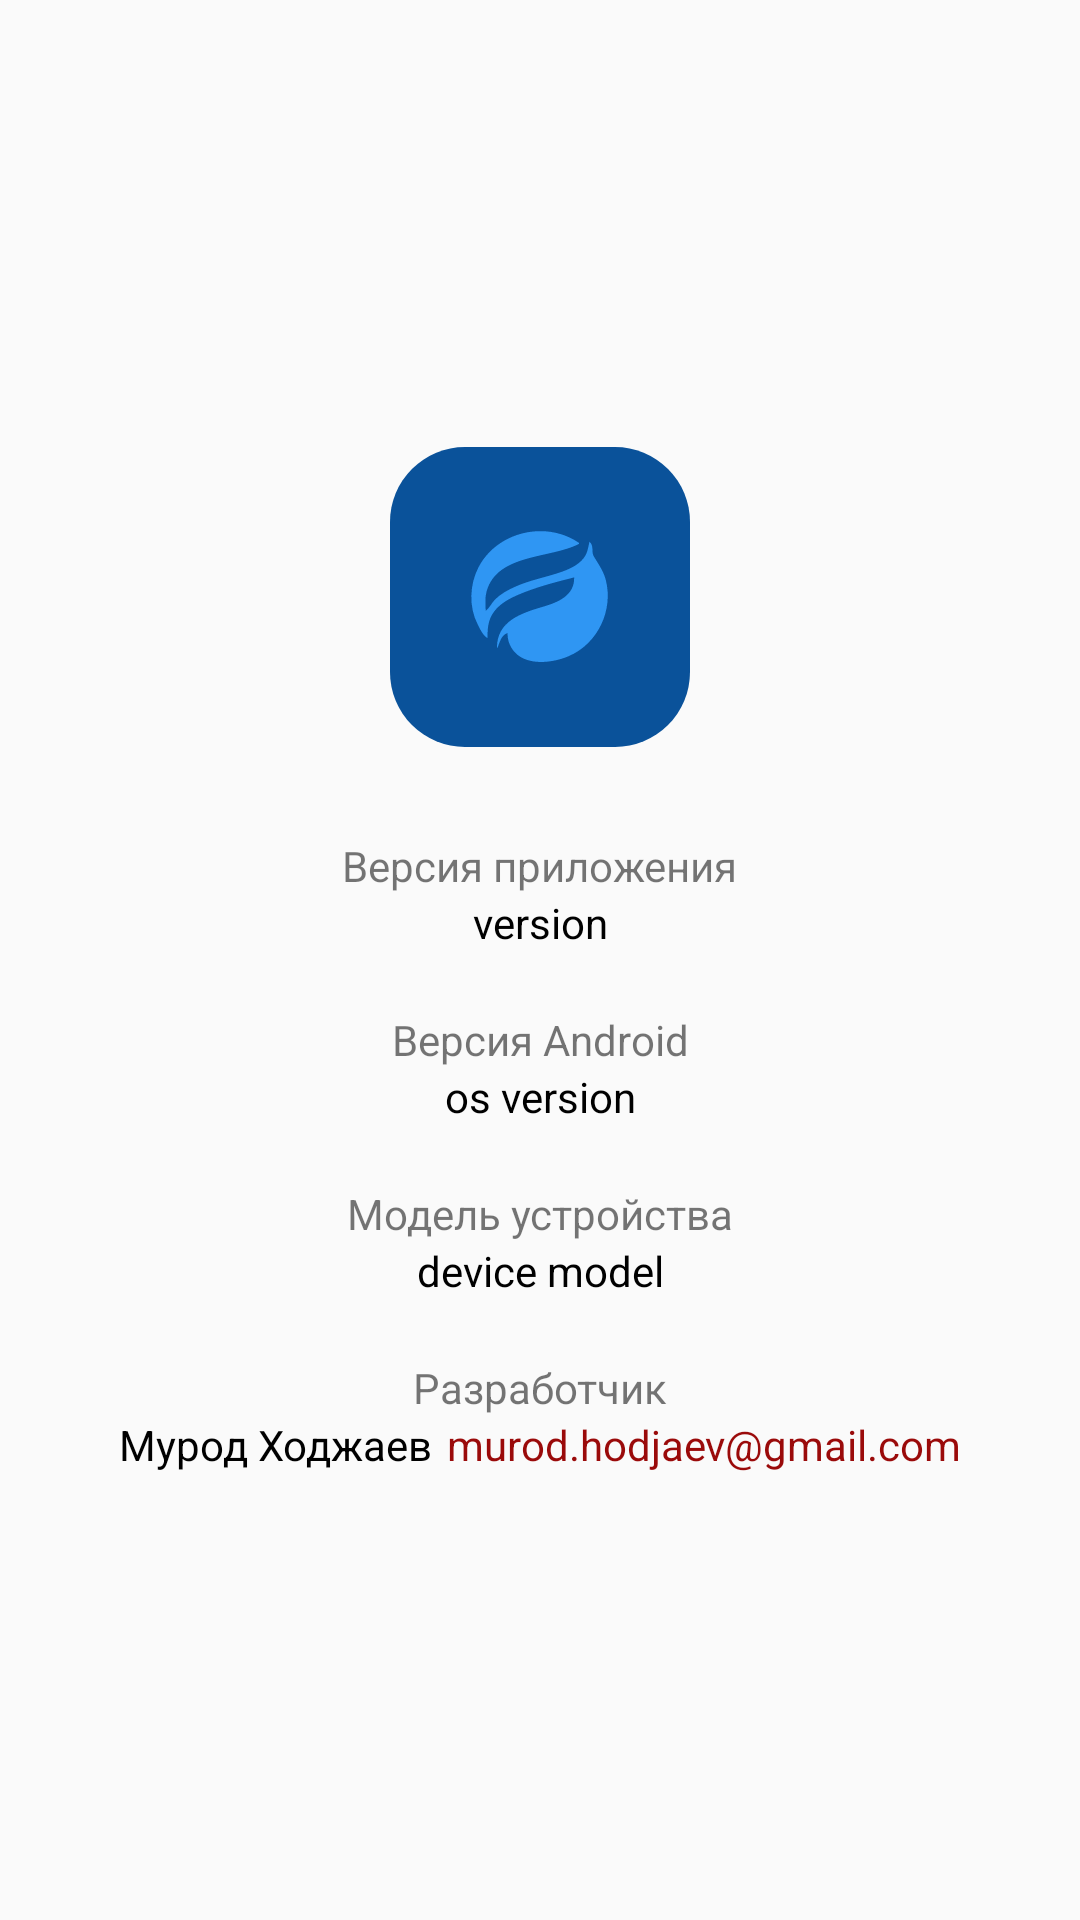

Locate icon controls on the screen. Image size 1080w x 1920h, boxes as (x1, y1, x2, y2).
app: (390, 447, 690, 747)
